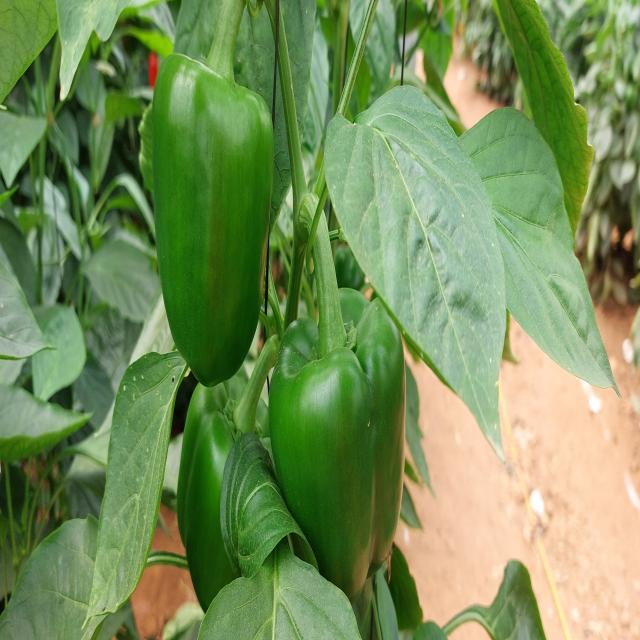Green--Not-ready-to-harvest: (282, 299, 425, 606), (156, 41, 272, 384), (179, 378, 294, 631)
